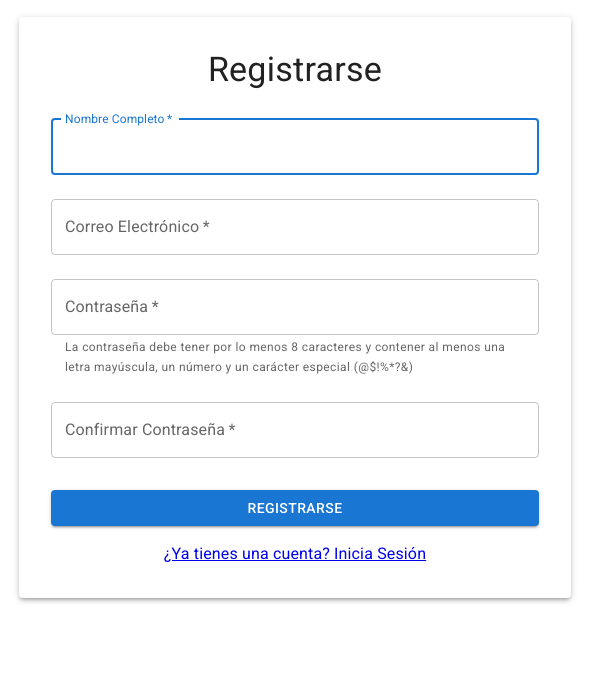
Scenario: Componente Registro › muestra error cuando el registro falla
Type "Juan Pérez" into the field labelled "Nombre Completo *" at (295, 147), box x1=51 y1=119 x2=539 y2=175
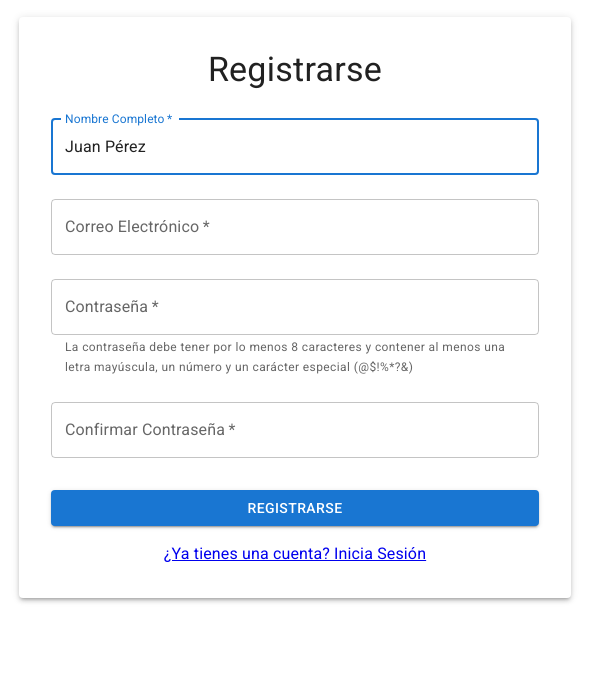
Type "juan@example.com" into the field labelled "Correo Electrónico *" at (295, 227), box x1=51 y1=199 x2=539 y2=255
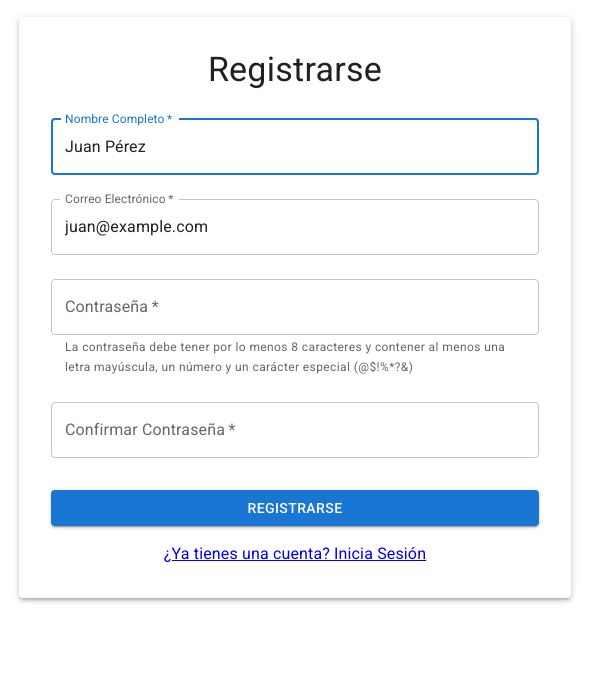
Type "Password123!" into the password field labelled "Contraseña *" at (295, 307), box x1=51 y1=279 x2=539 y2=335
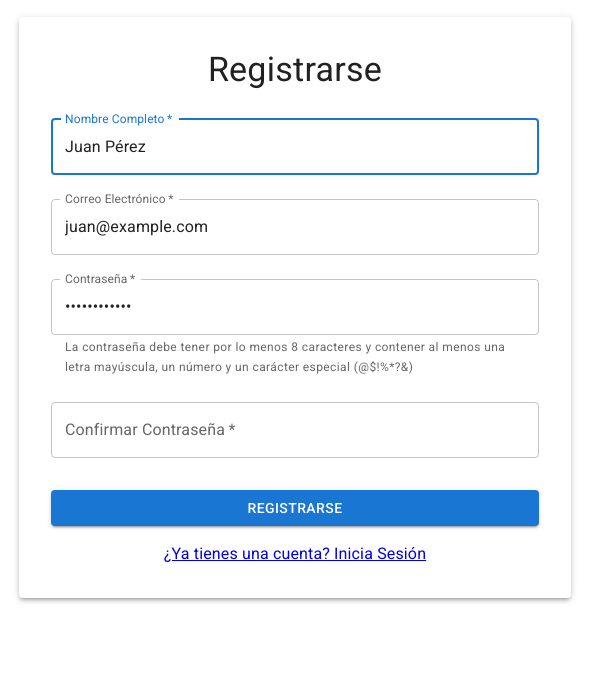
Type "Password123!" into the password field labelled "Confirmar Contraseña *" at (295, 430), box x1=51 y1=402 x2=539 y2=458
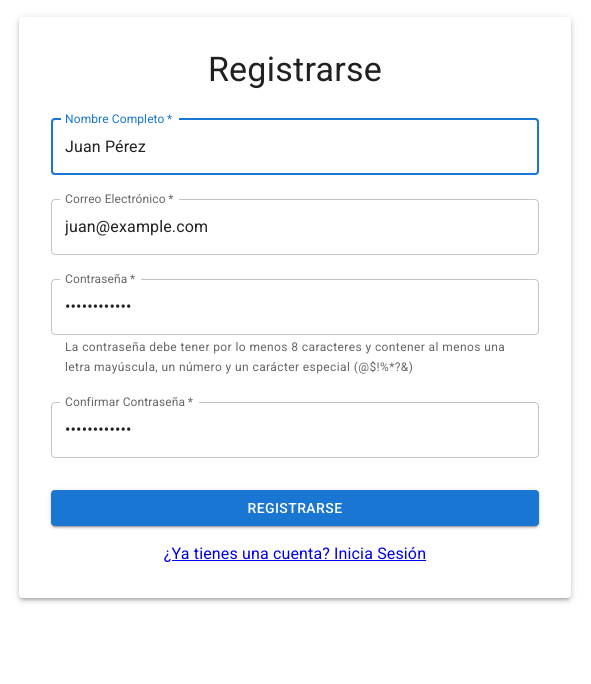
Click the button "Registrarse" at (295, 508), box x1=51 y1=490 x2=539 y2=526
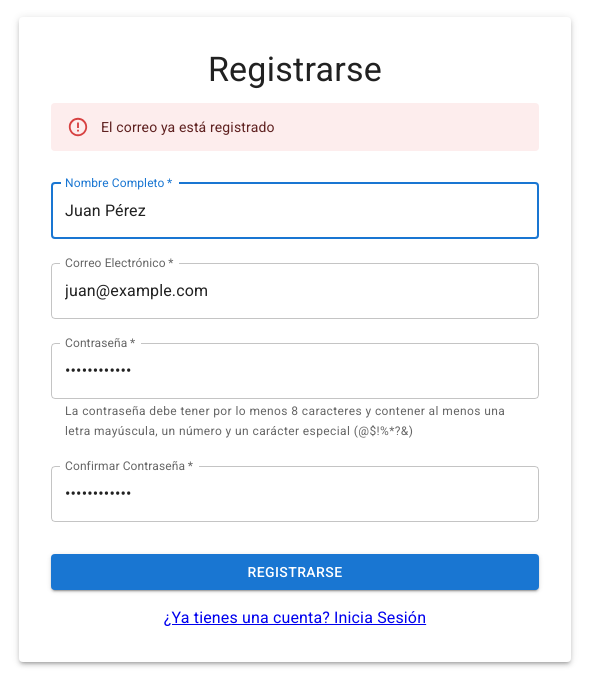
Result: the text "El correo ya está registrado" is shown at x1=101 y1=119 x2=275 y2=135
Result: the message "El correo ya está registrado" is shown at x1=51 y1=103 x2=539 y2=151
